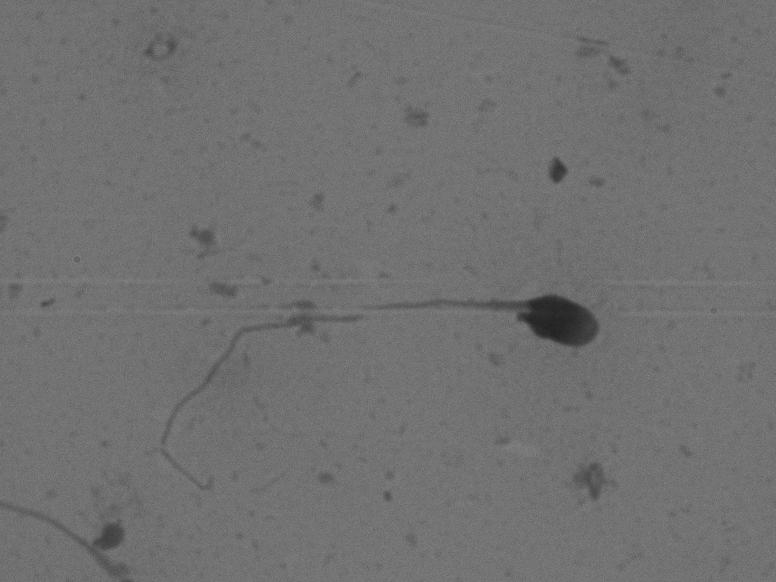Abnormal: (133, 232, 637, 493)
